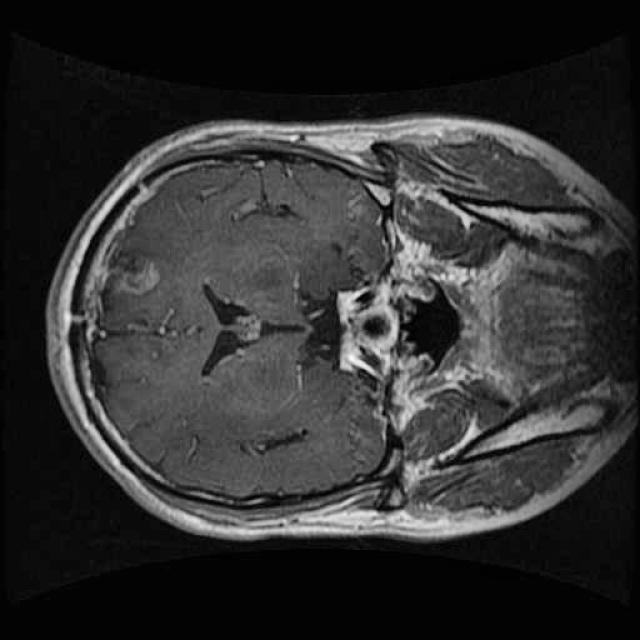Non-Tumor: (88, 239, 179, 308)
